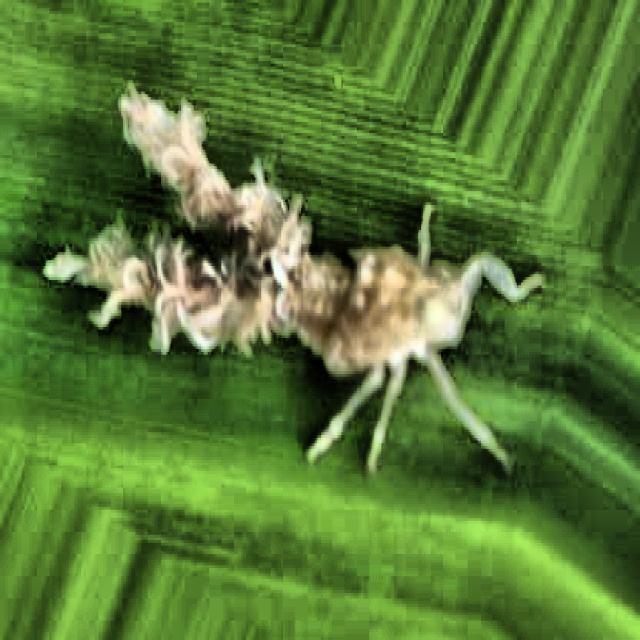Pyrilla-perpusilla: (29, 10, 574, 534)
